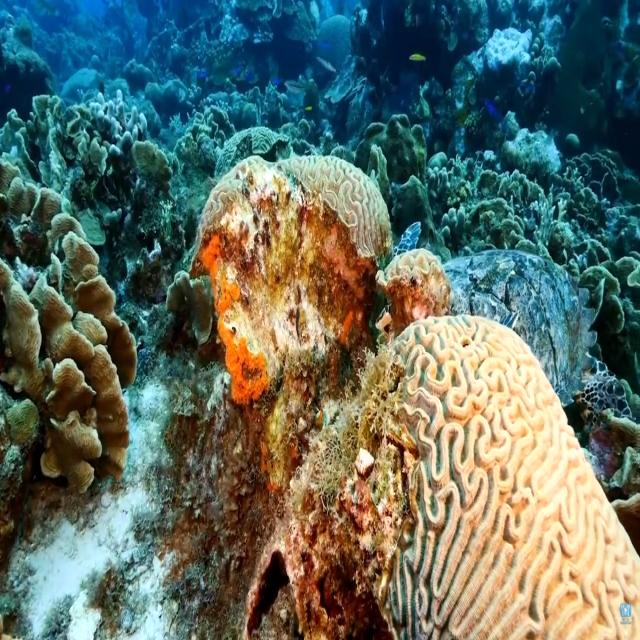Sea turtle: (395, 213, 640, 428)
